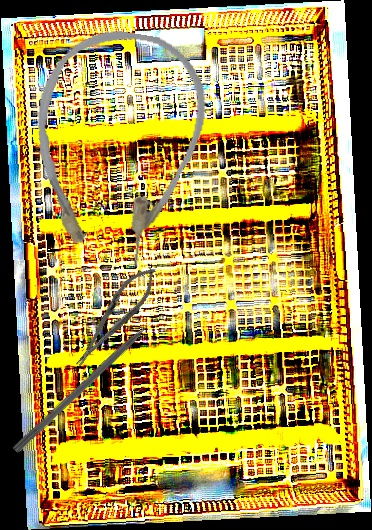Cannula: (16, 20, 216, 274)
Needle Holder: (64, 258, 166, 375)
Pusher: (11, 307, 169, 456)
